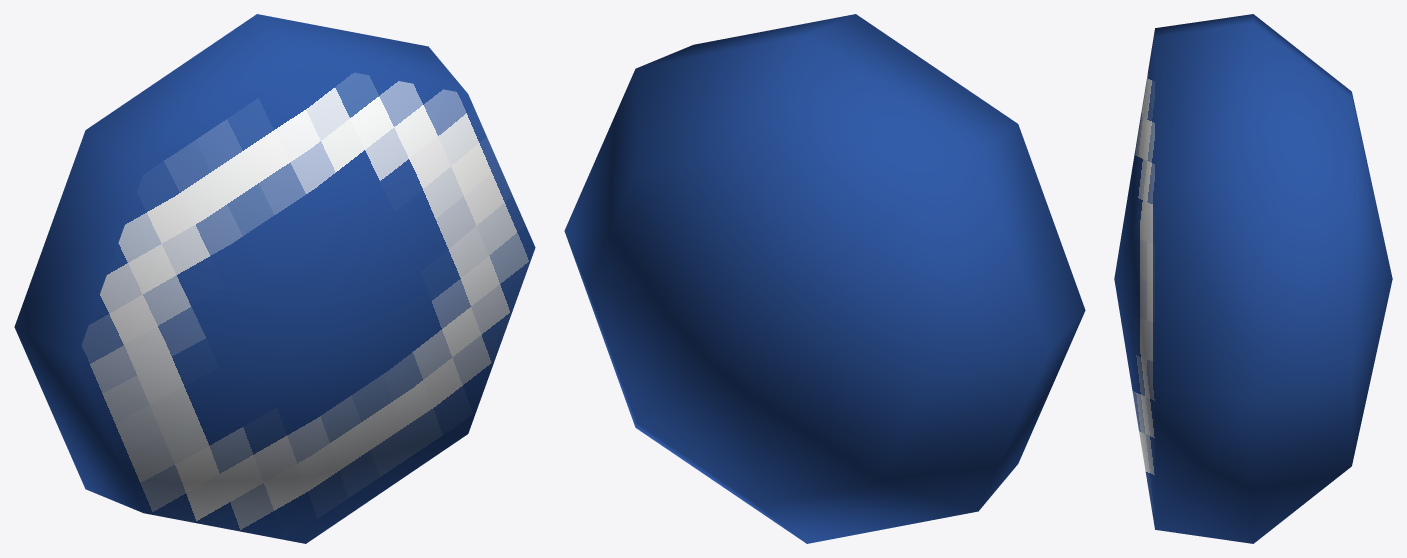
Rendered from uiMinimapMark.FBX.
3 views of the same model, side by side, from view 1: azimuth 30°, elevation 25°; view 2: azimuth 150°, elevation 25°; view 3: azimuth 270°, elevation 25° (orthographic).
Visible parts, largest first — view 1: Sphere001; view 2: Sphere001; view 3: Sphere001.
Part boxes in pixels (bbox=[...]): Sphere001: bbox=[14, 14, 535, 543]; Sphere001: bbox=[564, 14, 1085, 543]; Sphere001: bbox=[1114, 14, 1392, 543].
Bounding box in the file's own units: 1.06 × 1.06 × 0.5224.
1 material, 1 textured.
